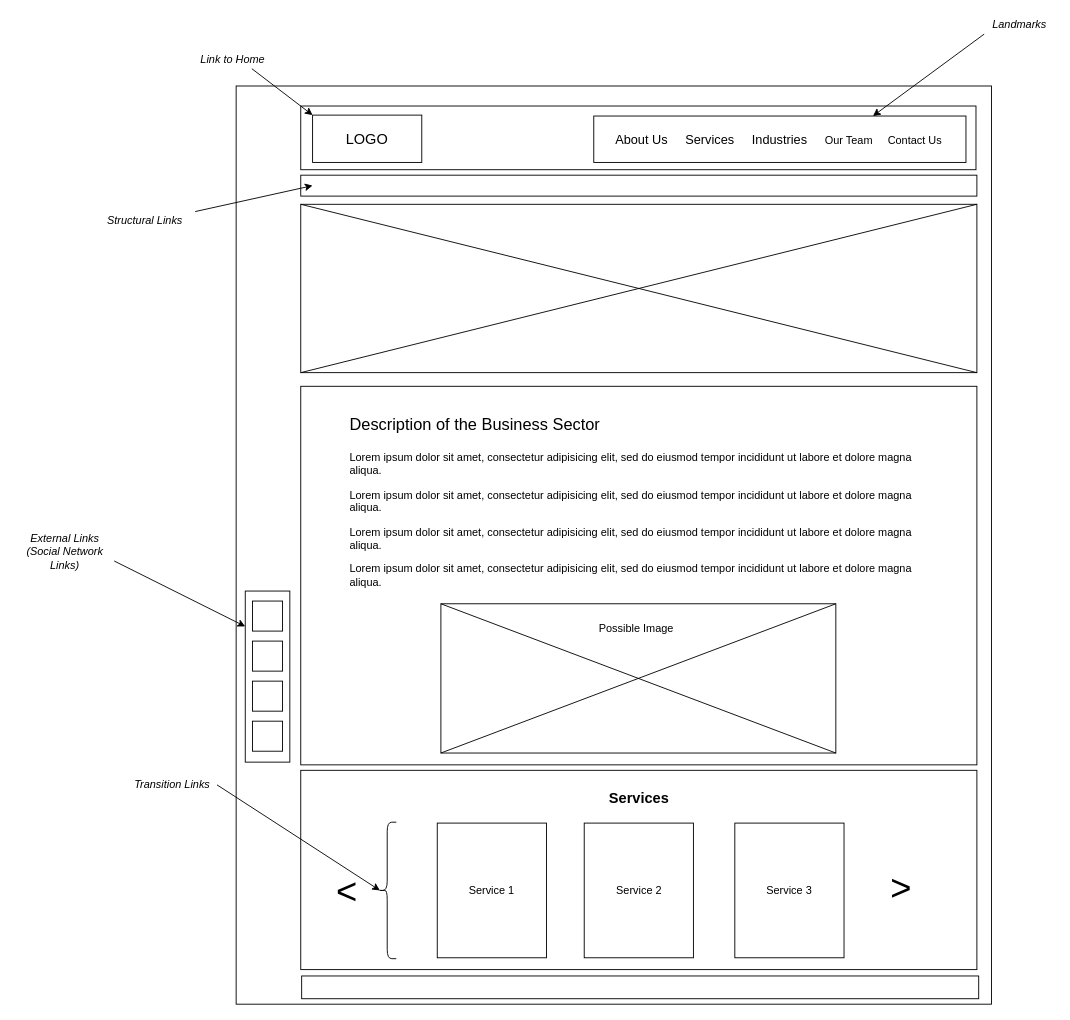
The diagram is 1070 pixels wide and 1020 high, and some of its shapes have lost their labels. Here are the shapes that lost their labels. From the top down, the centre of each, then its label:
(638,185): Anchor Links
(638,288): INDUSTRY NAME
(640,987): Footer
